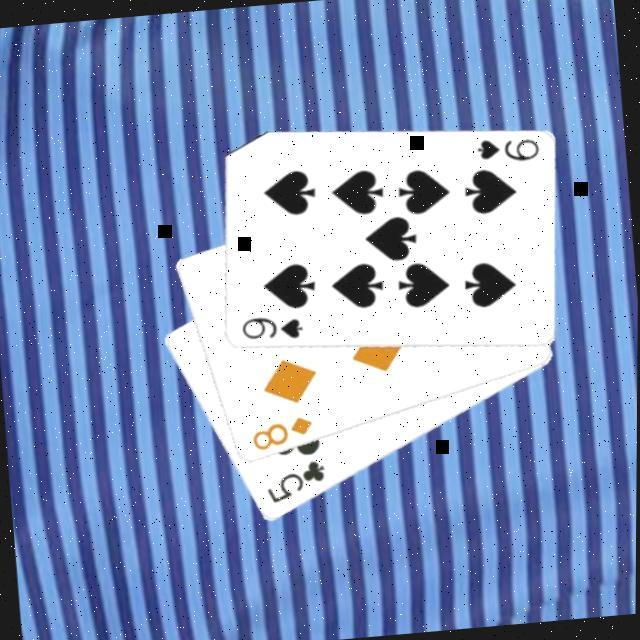5C: (263, 454, 333, 506)
8D: (248, 410, 319, 453)
9S: (238, 308, 308, 344), (474, 130, 544, 166)
